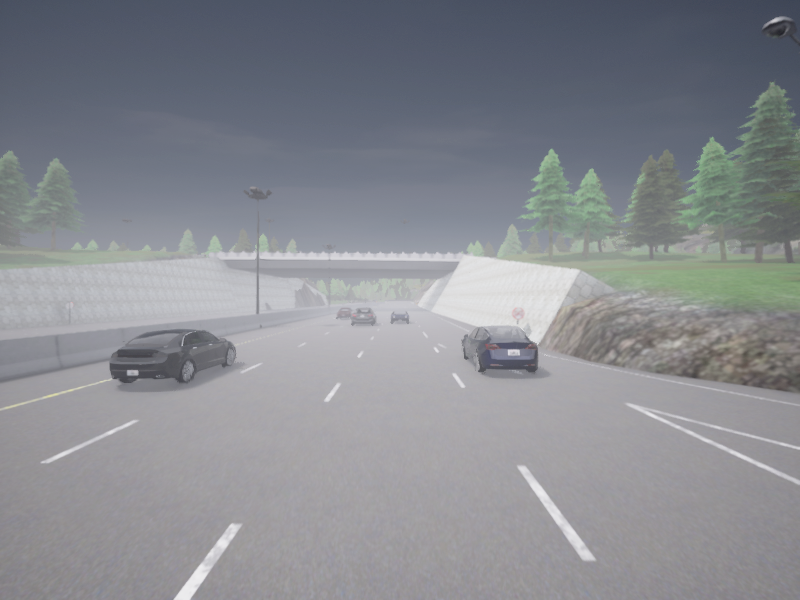vehicle: (109, 328, 234, 383), (461, 326, 538, 372), (352, 308, 376, 324), (391, 310, 408, 322), (337, 307, 353, 318)
